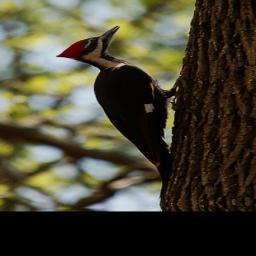Woodpecker: (52, 22, 209, 202)
